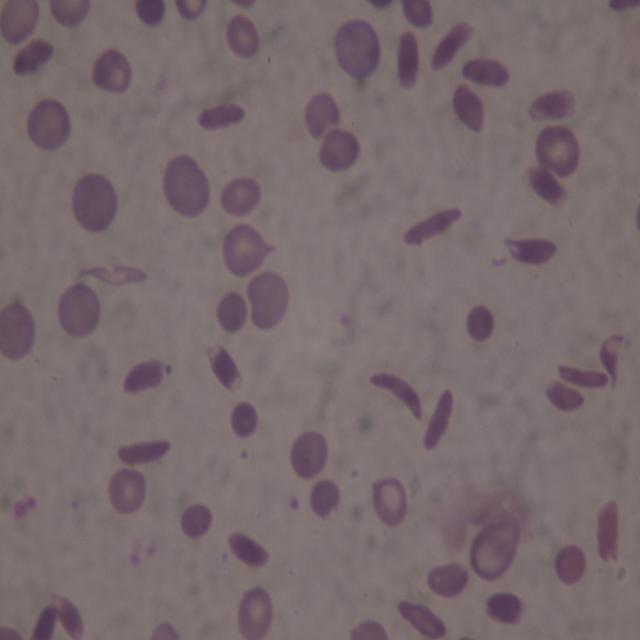Crystal: (429, 20, 475, 73), (422, 387, 454, 452), (396, 600, 448, 638), (207, 343, 243, 394), (526, 164, 569, 206), (12, 37, 58, 76), (594, 495, 620, 564), (459, 54, 510, 87), (50, 593, 86, 639), (227, 531, 270, 567), (544, 379, 585, 415), (123, 359, 163, 395), (526, 89, 574, 118), (196, 102, 245, 130), (398, 30, 418, 92), (32, 602, 58, 640), (604, 1, 640, 13)
Normal: (107, 465, 148, 511), (238, 584, 274, 636)
Others: (162, 151, 212, 218), (469, 518, 520, 582), (222, 221, 277, 275), (334, 17, 382, 78), (70, 170, 118, 231), (245, 270, 290, 330), (57, 282, 102, 339), (534, 126, 581, 180), (26, 98, 70, 151), (1, 301, 37, 363), (90, 45, 135, 94), (289, 429, 330, 482), (303, 91, 343, 140), (319, 127, 360, 173), (372, 477, 408, 527), (221, 174, 262, 216), (0, 0, 39, 44), (452, 82, 485, 132), (554, 540, 588, 585), (484, 591, 525, 627), (426, 563, 470, 596), (599, 332, 625, 387), (225, 16, 259, 58), (46, 0, 90, 31), (216, 290, 246, 334), (309, 476, 342, 516), (180, 500, 212, 538), (465, 302, 496, 341), (230, 401, 259, 438), (402, 0, 436, 27), (133, 0, 168, 26), (349, 618, 389, 638), (175, 0, 208, 20), (148, 620, 180, 640), (1, 622, 26, 640), (368, 0, 397, 11), (233, 0, 258, 11)
Sickle: (366, 371, 424, 422), (401, 206, 461, 246), (80, 261, 150, 284), (502, 235, 557, 264), (116, 438, 171, 465), (556, 363, 608, 387)
